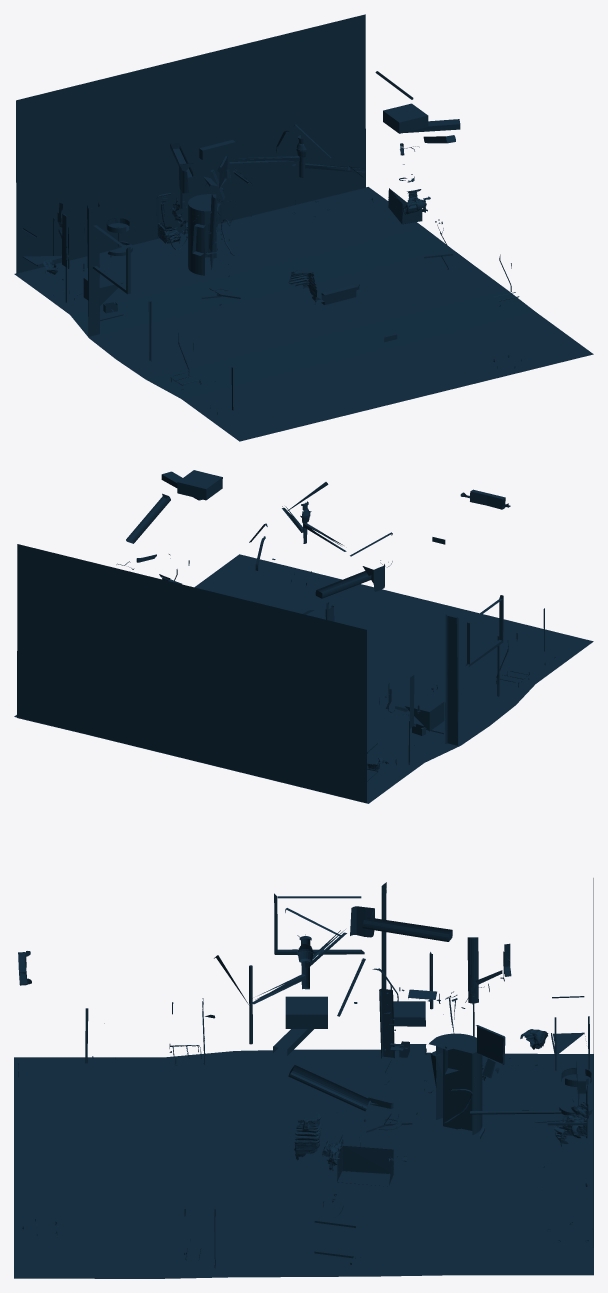
The model's file is charite_university_hospital_-_operating_room_1.obj.
3 renders of one model, top to bottom at view 1: azimuth 30°, elevation 25°; view 2: azimuth 150°, elevation 25°; view 3: azimuth 270°, elevation 25°, orthographic. The views are drawn at different scales.
Size of the model in its own units: 5.92 by 2.76 by 6.33.
